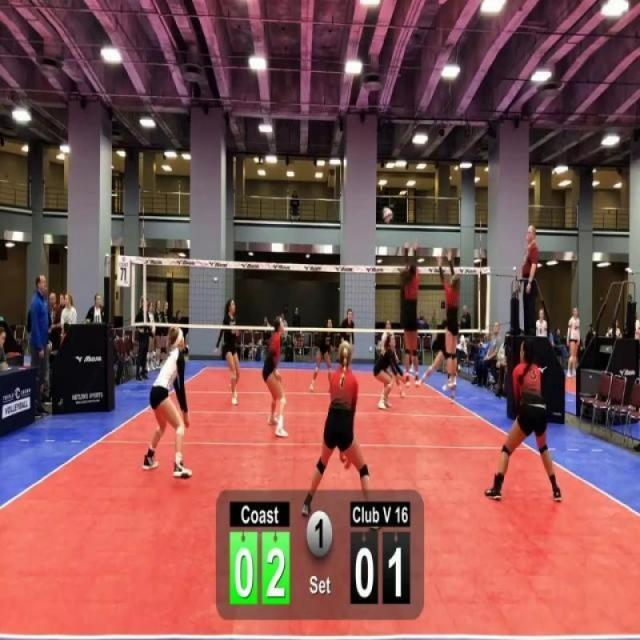volleyball: (381, 206, 394, 226)
